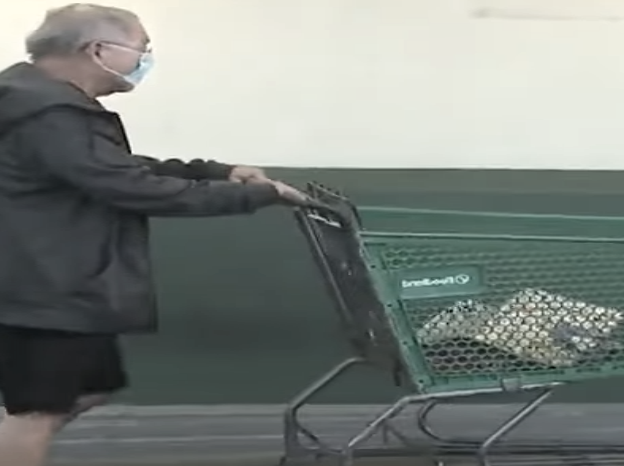mask_weared_incorrect: (74, 3, 161, 95)
